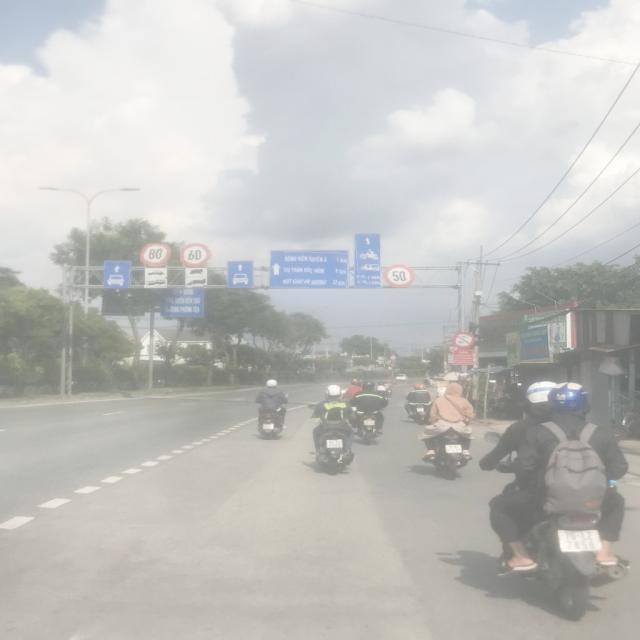127-toc-do-toi-da-50: (384, 264, 414, 288)
127-toc-do-toi-da-60: (179, 244, 210, 268)
127-toc-do-toi-da-80: (140, 243, 171, 267)
